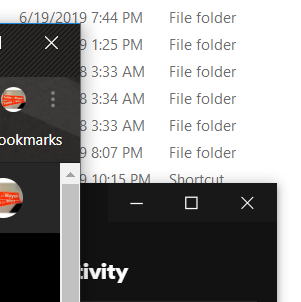close: (34, 28, 70, 58), (229, 189, 266, 218)
